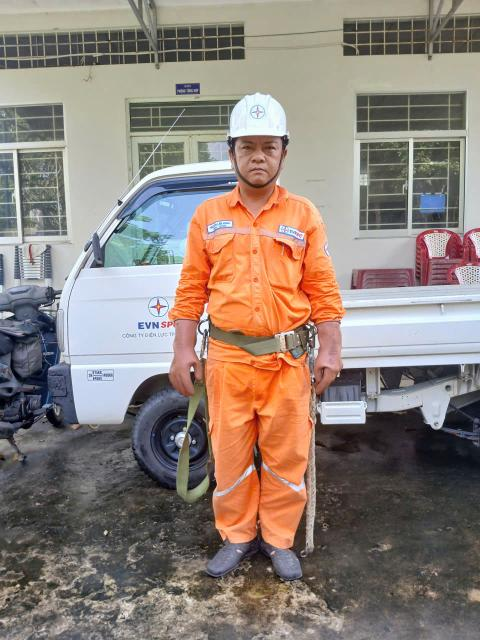gloves: (168, 307, 209, 402), (313, 308, 347, 402)
harness: (196, 311, 317, 362)
helmet: (203, 88, 309, 148)
shoes: (211, 529, 261, 578), (262, 530, 303, 586)
